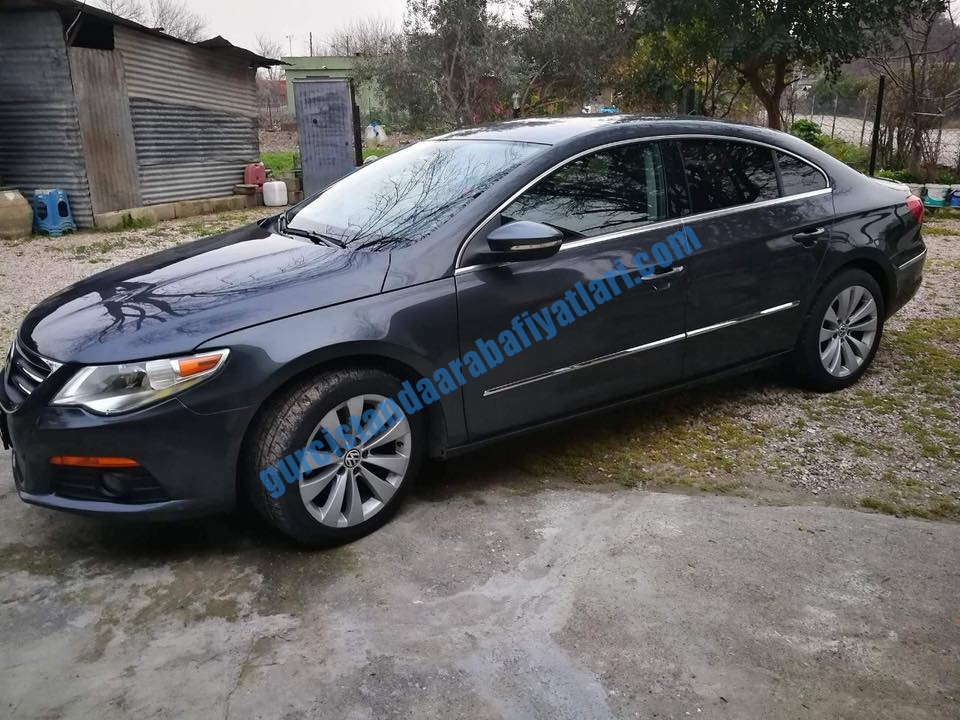car: (15, 111, 935, 537)
